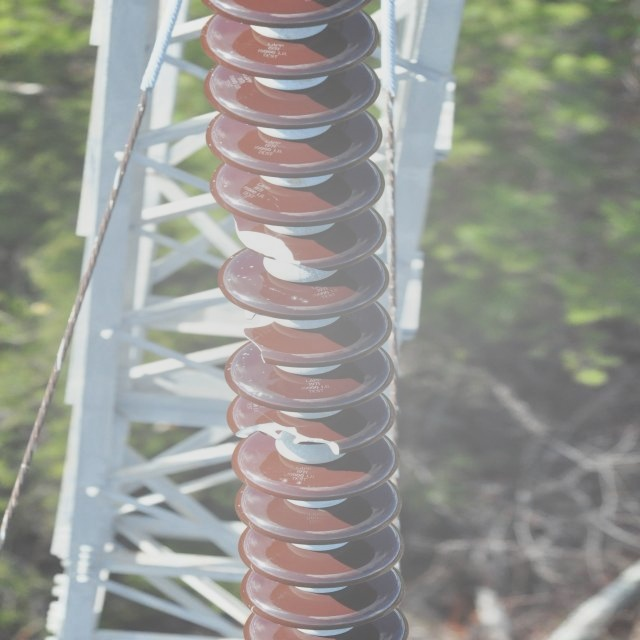broken: (217, 205, 313, 274), (227, 420, 347, 460)
insulator: (198, 0, 416, 637)
